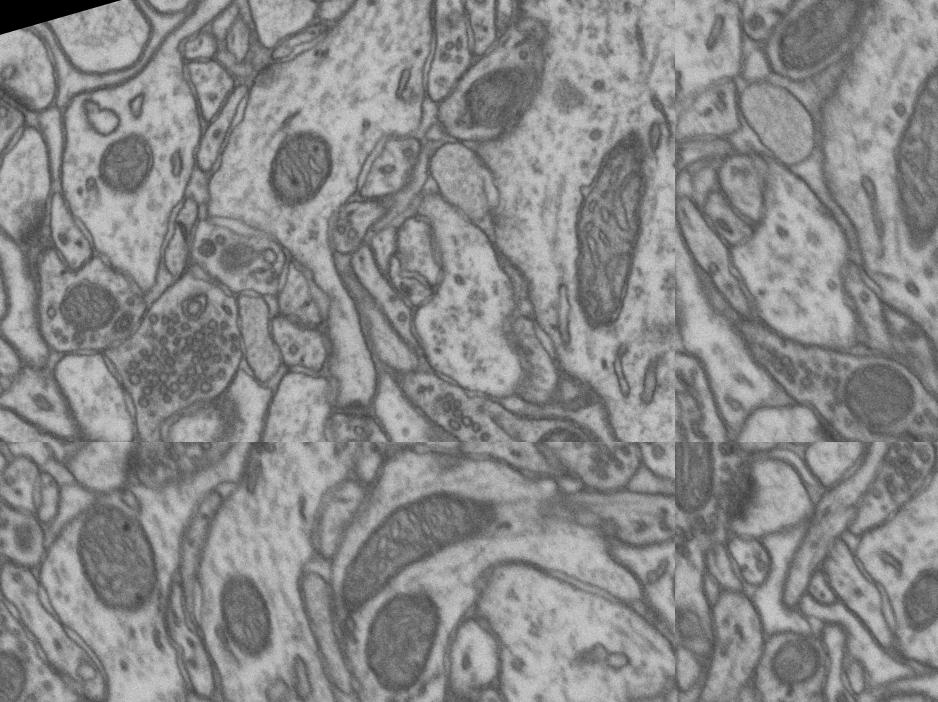mitochondria: (522, 116, 675, 349), (312, 468, 522, 617), (849, 32, 938, 257), (59, 488, 176, 632), (342, 574, 466, 702), (246, 114, 358, 223), (820, 340, 935, 442), (750, 0, 887, 84), (441, 44, 542, 147), (204, 564, 288, 673), (76, 119, 170, 210), (40, 260, 131, 348), (675, 442, 762, 524), (738, 628, 830, 702), (884, 536, 938, 631), (508, 407, 601, 442), (0, 635, 45, 702)
